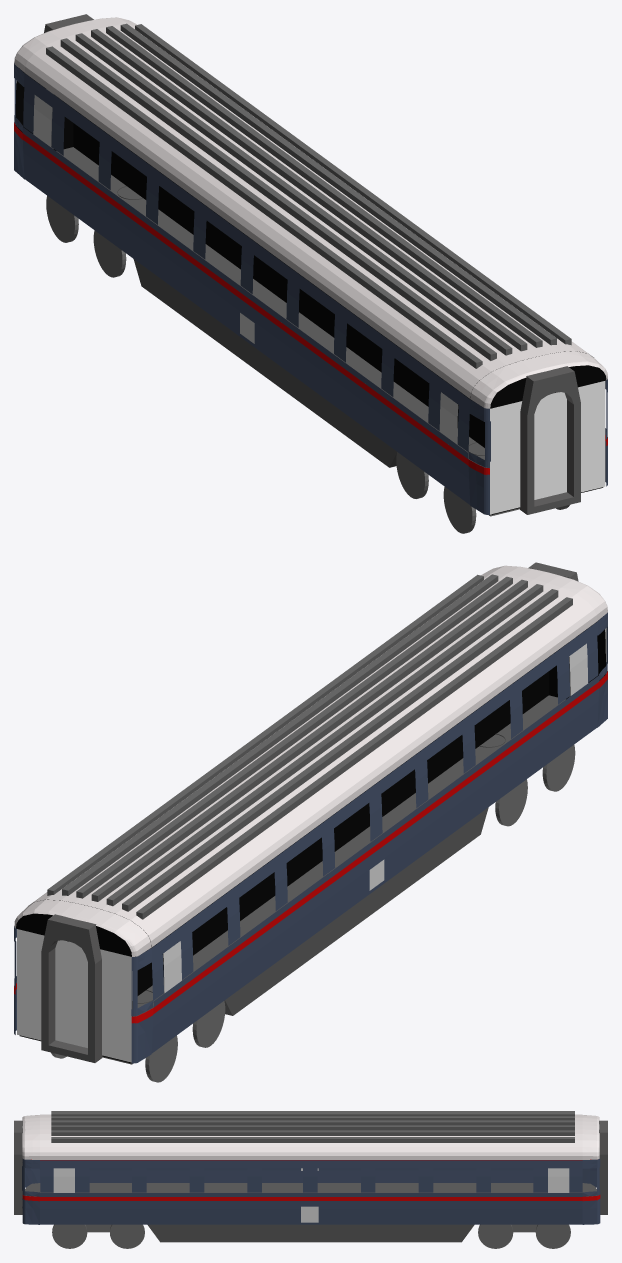
The model's file is br-mk3-to-gner.dae.
3 views of the same model, one above another, from view 1: azimuth 30°, elevation 25°; view 2: azimuth 150°, elevation 25°; view 3: azimuth 270°, elevation 25° (orthographic). The views are drawn at different scales.
Parts seen in each view (by area): view 1: Suzanne_001, Plane_007, Plane_001, Plane_111, Cube_010, Cube, Cube_011, Cube_008, Cube_009, Cube_004, Plane_002, Cube_002 (+15 smaller); view 2: Suzanne_001, Plane_007, Plane_100, Plane_111, Cube, Cube_010, Cube_011, Cube_008, Cube_009, Cube_004, Plane_002, Cube_002 (+14 smaller); view 3: Plane_134, Suzanne_001, Cube, Plane_007, Plane_002, Cube_002, Cube_003, Cube_004, Cube_008, Plane_135, Plane_136, Cube_009 (+33 smaller).
Boxes of the visible parts, x1,y1,x2,y2 form: Suzanne_001: (24,24,593,398); Plane_007: (23,140,470,504); Plane_001: (490,381,605,514); Plane_111: (73,109,484,447); Cube_010: (60,38,496,360); Cube: (133,259,396,467); Cube_011: (46,46,482,368); Cube_008: (91,29,527,351); Cube_009: (75,33,512,355); Cube_004: (106,26,542,347); Plane_002: (56,147,489,468); Cube_002: (120,23,556,345); Suzanne_001: (28,573,596,947); Plane_007: (151,688,598,1053); Plane_100: (17,929,132,1062); Plane_111: (135,657,548,995); Cube: (224,807,488,1015); Cube_010: (122,589,558,911); Cube_011: (136,597,572,919); Cube_008: (91,579,527,901); Cube_009: (106,584,543,906); Cube_004: (76,576,512,898); Plane_002: (133,695,565,1016); Cube_002: (62,574,498,895); Plane_134: (40,1201,582,1224); Suzanne_001: (40,1114,582,1159); Cube: (147,1224,474,1242); Plane_007: (40,1168,533,1182); Plane_002: (25,1183,596,1196); Cube_002: (51,1130,574,1135); Cube_003: (51,1137,574,1142); Cube_004: (51,1125,574,1130); Cube_008: (51,1120,574,1125); Plane_135: (40,1160,582,1164); Plane_136: (40,1164,582,1168); Cube_009: (51,1116,574,1120).
Bounding box in the file's own units: 2.08 × 13.39 × 2.81.
